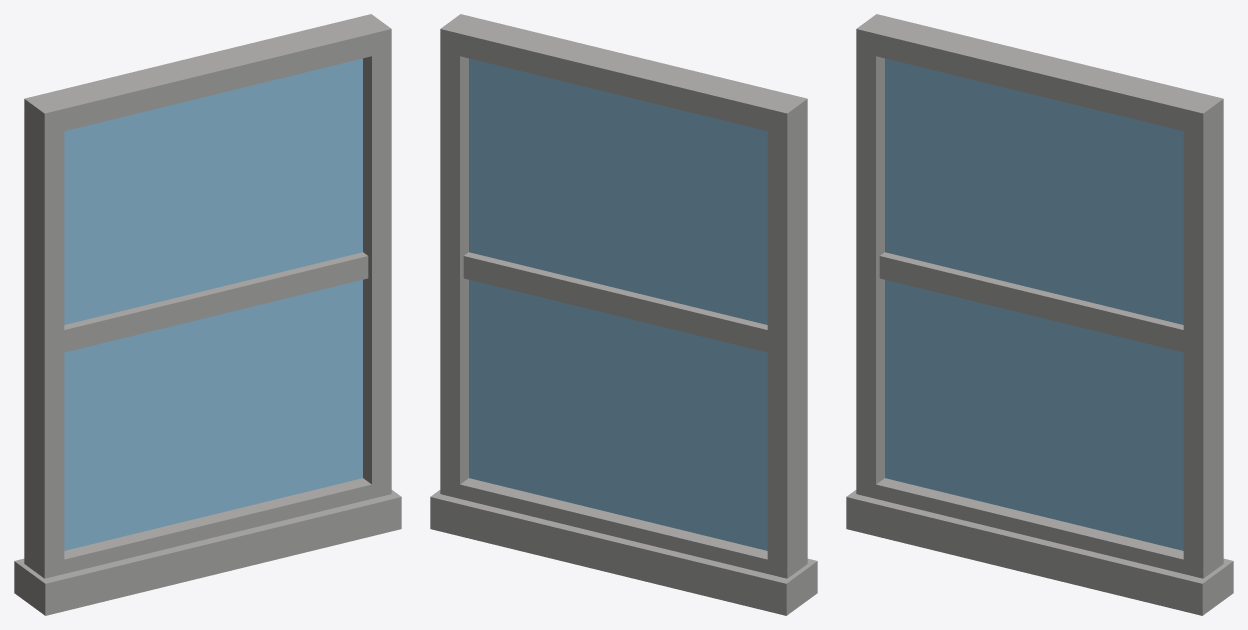
The model's file is Window_Small1.glb.
The picture shows the model from 3 angles, left to right: view 1: azimuth 30°, elevation 25°; view 2: azimuth 150°, elevation 25°; view 3: azimuth 330°, elevation 25°; orthographic projection.
Parts seen in each view (by area): view 1: Window_Small1; view 2: Window_Small1; view 3: Window_Small1.
Part boxes in pixels (bbox=[...]): Window_Small1: bbox=[14, 14, 401, 615]; Window_Small1: bbox=[430, 14, 817, 615]; Window_Small1: bbox=[846, 14, 1233, 615].
Bounding box in the file's own units: 0.9282 × 1.24 × 0.1411.
